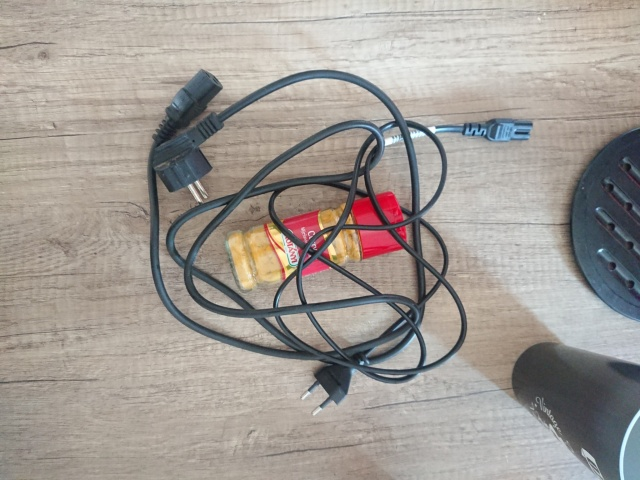Kotanyi Curry Spices Mix 70g: (222, 188, 409, 295)
